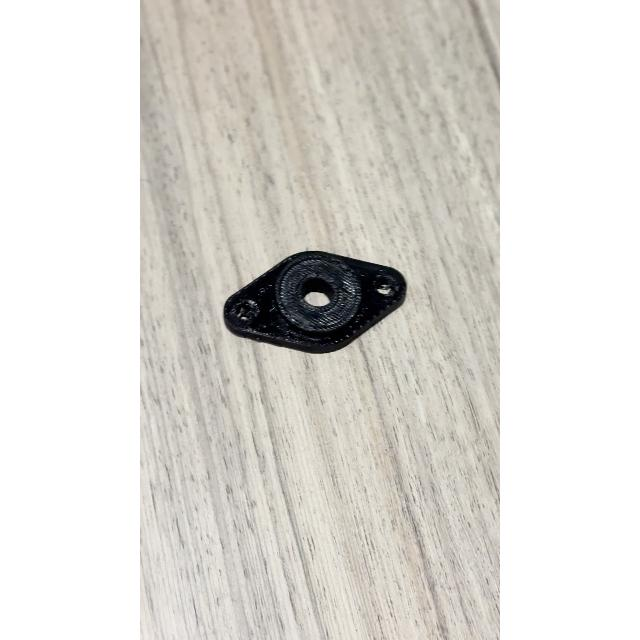Pieza_2: (219, 240, 417, 366)
